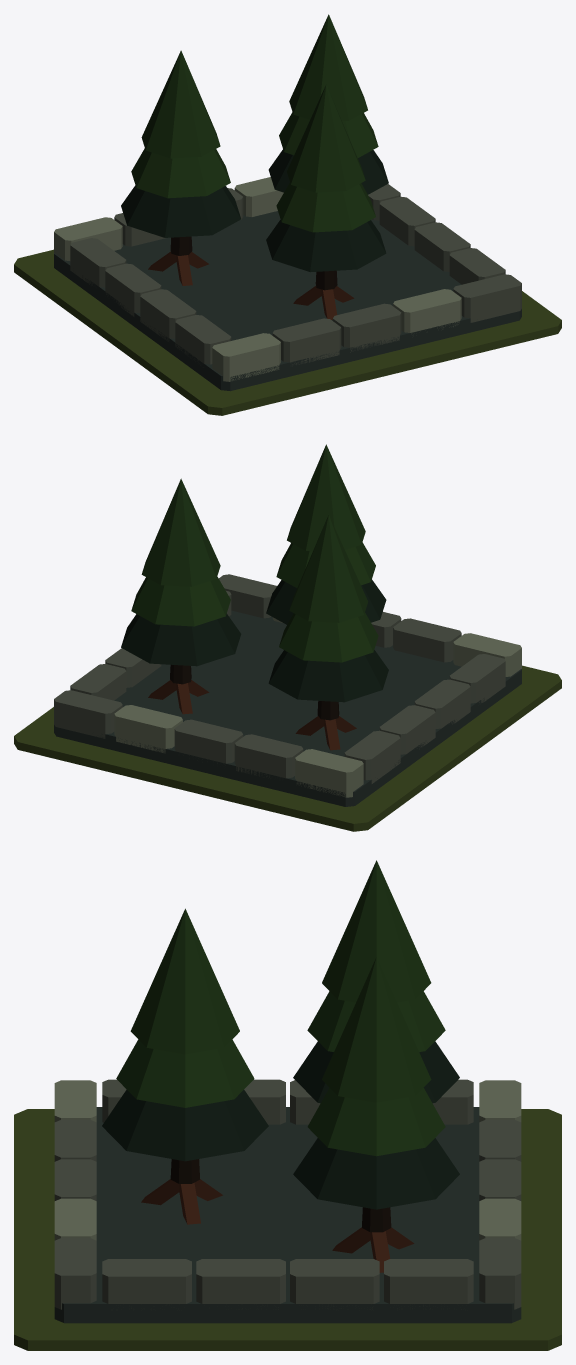
Rendered from whisper-grove_t1.glb.
3 renders of one model, top to bottom at view 1: azimuth 30°, elevation 25°; view 2: azimuth 150°, elevation 25°; view 3: azimuth 270°, elevation 25°, orthographic. The views are drawn at different scales.
Parts seen in each view (by area): view 1: MMR | whisper-grove | T01 Architecture.001, MMR | whisper-grove | Tier 01 Ground.001; view 2: MMR | whisper-grove | T01 Architecture.001, MMR | whisper-grove | Tier 01 Ground.001; view 3: MMR | whisper-grove | T01 Architecture.001, MMR | whisper-grove | Tier 01 Ground.001.
Part boxes in pixels (box(x1,y1,x2,y2)): MMR | whisper-grove | T01 Architecture.001: box(54, 14, 521, 391); MMR | whisper-grove | Tier 01 Ground.001: box(14, 249, 561, 415); MMR | whisper-grove | T01 Architecture.001: box(54, 444, 521, 806); MMR | whisper-grove | Tier 01 Ground.001: box(14, 665, 561, 831); MMR | whisper-grove | T01 Architecture.001: box(54, 860, 521, 1323); MMR | whisper-grove | Tier 01 Ground.001: box(14, 1109, 561, 1350).
Bounding box in the file's own units: 2.35 × 1.55 × 2.35.
1 material, 1 textured.
